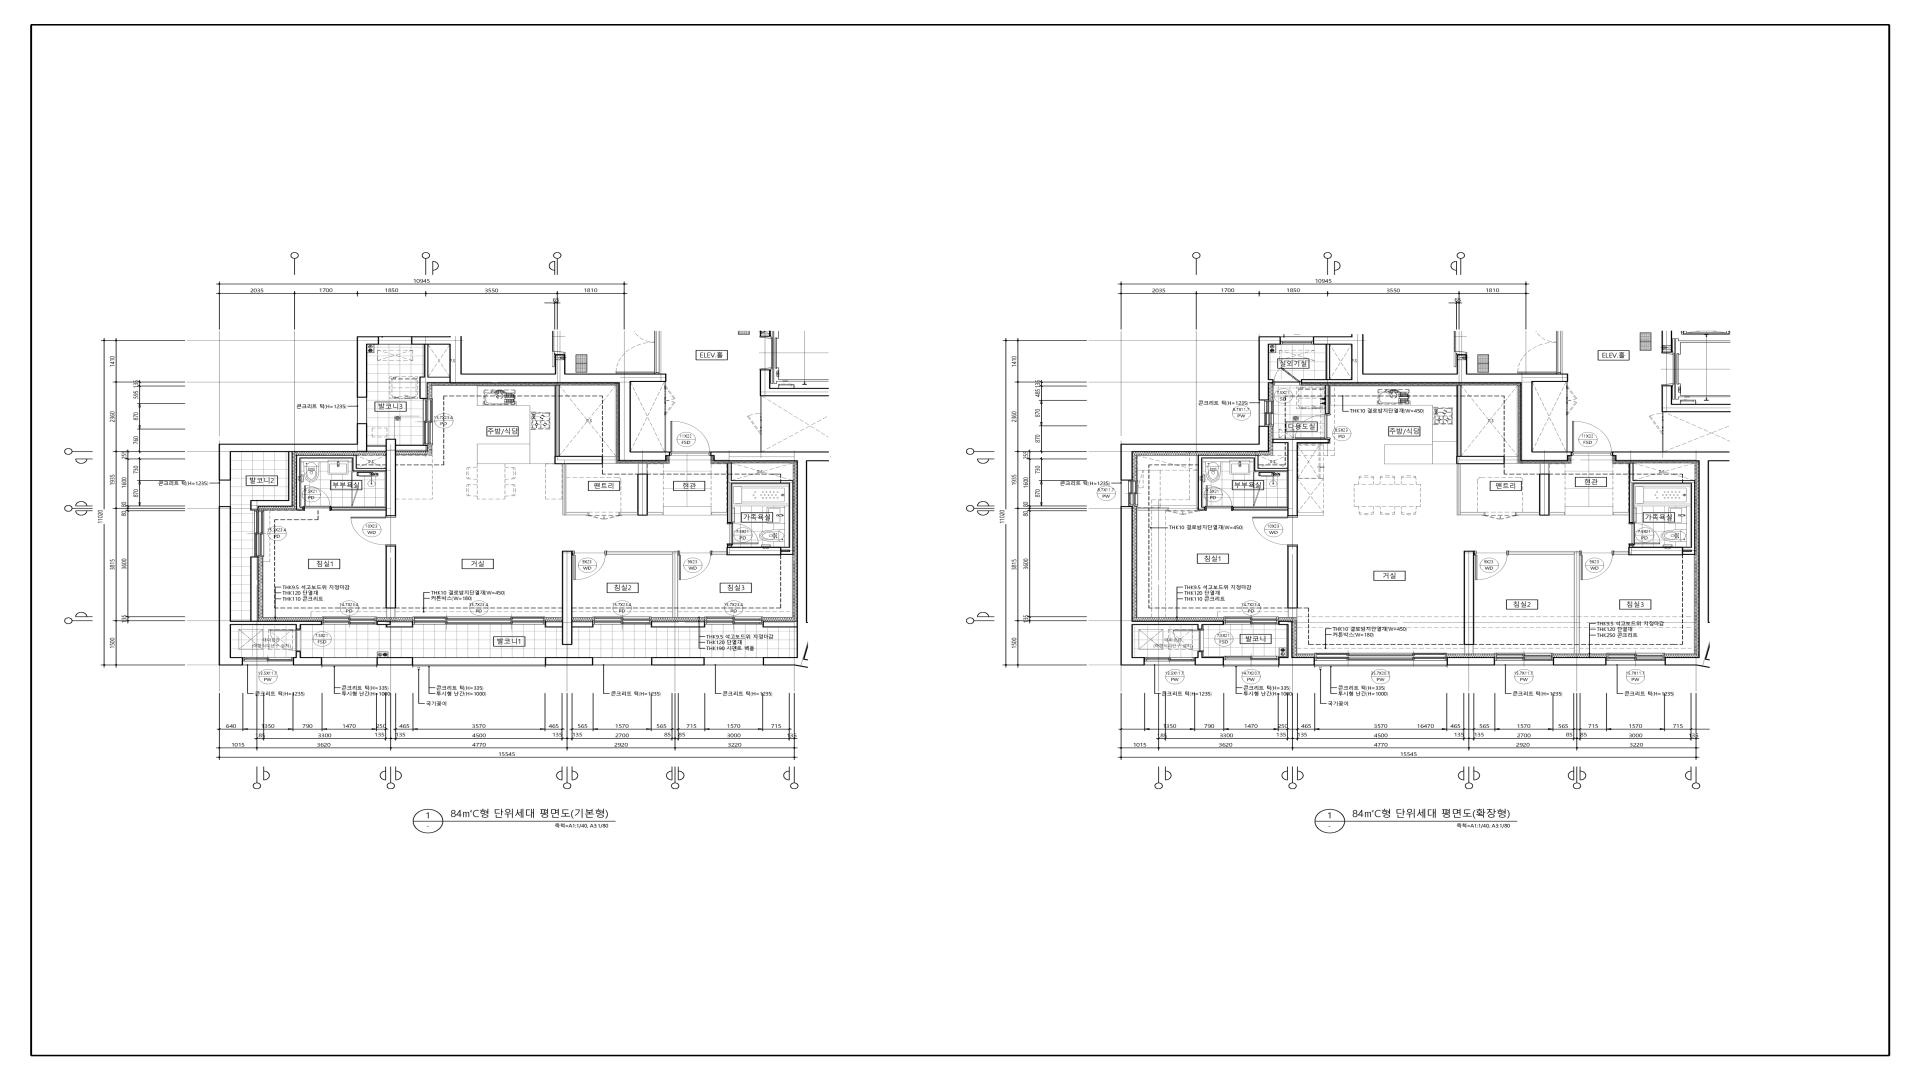door: (616, 331, 659, 373), (670, 421, 711, 456), (1572, 421, 1613, 456), (1253, 516, 1298, 546), (351, 516, 396, 546), (678, 551, 712, 580), (1474, 551, 1509, 580), (1580, 551, 1614, 580), (572, 551, 607, 580), (1295, 414, 1331, 439), (303, 485, 331, 512), (727, 522, 758, 545), (1205, 485, 1233, 510), (270, 629, 301, 651), (1629, 524, 1660, 545), (1174, 630, 1204, 651), (1274, 367, 1302, 385), (665, 386, 676, 415), (1567, 386, 1577, 415), (748, 414, 762, 434), (1650, 414, 1663, 434), (588, 512, 620, 520), (1485, 512, 1516, 520), (1168, 508, 1197, 516), (1253, 488, 1261, 506), (352, 487, 359, 506)
wall: (1302, 331, 1572, 462), (411, 336, 670, 462), (711, 451, 829, 667), (1613, 451, 1729, 666), (219, 506, 322, 666), (1121, 506, 1224, 666), (1197, 439, 1329, 516), (297, 439, 427, 516), (219, 423, 368, 480), (554, 385, 616, 516), (1121, 426, 1269, 480), (1457, 385, 1518, 516), (1613, 463, 1696, 555), (711, 463, 794, 555), (1509, 551, 1580, 654), (607, 551, 678, 617), (545, 551, 593, 645), (1516, 464, 1565, 516), (251, 452, 293, 510), (620, 464, 663, 516), (1662, 385, 1731, 413), (760, 369, 829, 397), (1278, 621, 1315, 666), (419, 344, 450, 398), (1258, 336, 1280, 401), (356, 336, 378, 398), (1464, 551, 1474, 654), (385, 546, 396, 617), (712, 545, 782, 555), (1288, 546, 1298, 617), (251, 556, 258, 621), (651, 657, 704, 666), (1553, 657, 1606, 666), (1448, 657, 1495, 666), (546, 657, 592, 666), (293, 651, 322, 666), (1195, 651, 1224, 666), (651, 621, 705, 628), (377, 657, 413, 666), (377, 621, 413, 628), (1662, 331, 1672, 352), (764, 621, 796, 628), (1325, 344, 1331, 380), (1325, 385, 1329, 414), (1137, 508, 1168, 510), (760, 331, 770, 336), (1567, 415, 1568, 451), (665, 415, 666, 451), (761, 396, 762, 414), (1663, 434, 1664, 451), (761, 434, 762, 451), (1253, 472, 1254, 488), (665, 381, 666, 386), (1567, 382, 1568, 386), (352, 505, 352, 506), (352, 472, 352, 488), (1663, 413, 1663, 414)
window: (1315, 653, 1448, 667), (413, 658, 546, 667), (413, 617, 546, 625), (1606, 653, 1665, 666), (1495, 653, 1553, 666), (1224, 655, 1279, 667), (322, 658, 377, 667), (704, 617, 764, 625), (704, 658, 764, 666), (592, 658, 651, 666), (1145, 657, 1195, 666), (243, 657, 293, 666), (593, 617, 651, 625), (1121, 480, 1138, 506), (322, 617, 377, 625), (423, 398, 433, 446), (1224, 617, 1278, 625), (255, 510, 264, 556), (1258, 401, 1274, 426), (219, 480, 231, 506), (1280, 336, 1313, 344), (378, 336, 411, 344), (357, 397, 367, 423)
